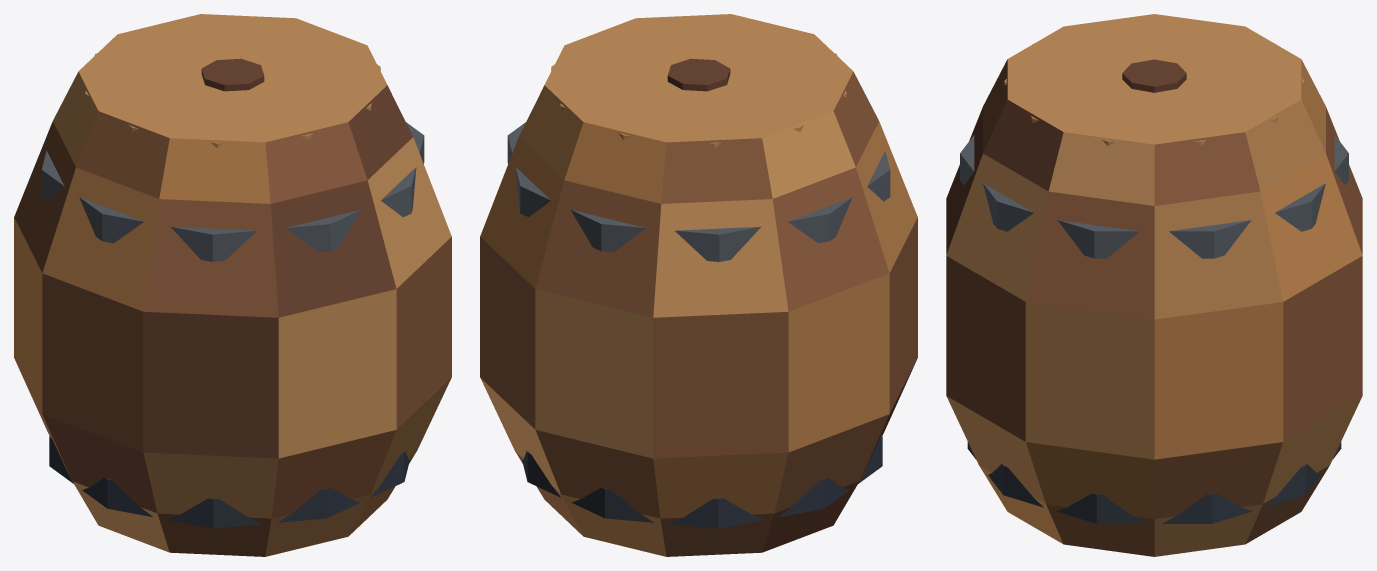
File: Barrel_01.obj
3 renders of one model, left to right at view 1: azimuth 30°, elevation 25°; view 2: azimuth 150°, elevation 25°; view 3: azimuth 270°, elevation 25°, orthographic.
Parts seen in each view (by area): view 1: Barrel_01; view 2: Barrel_01; view 3: Barrel_01.
Part boxes in pixels (bbox=[...]): Barrel_01: bbox=[14, 14, 451, 556]; Barrel_01: bbox=[480, 14, 917, 556]; Barrel_01: bbox=[946, 14, 1362, 556].
Size of the model in its own units: 1.02 by 1.08 by 0.9701.
Materials: 1 (1 with a texture image).
